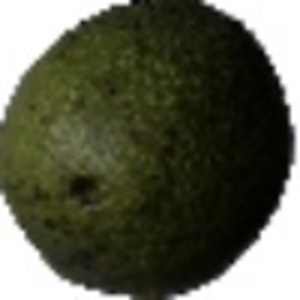abacate: (1, 1, 292, 295)
